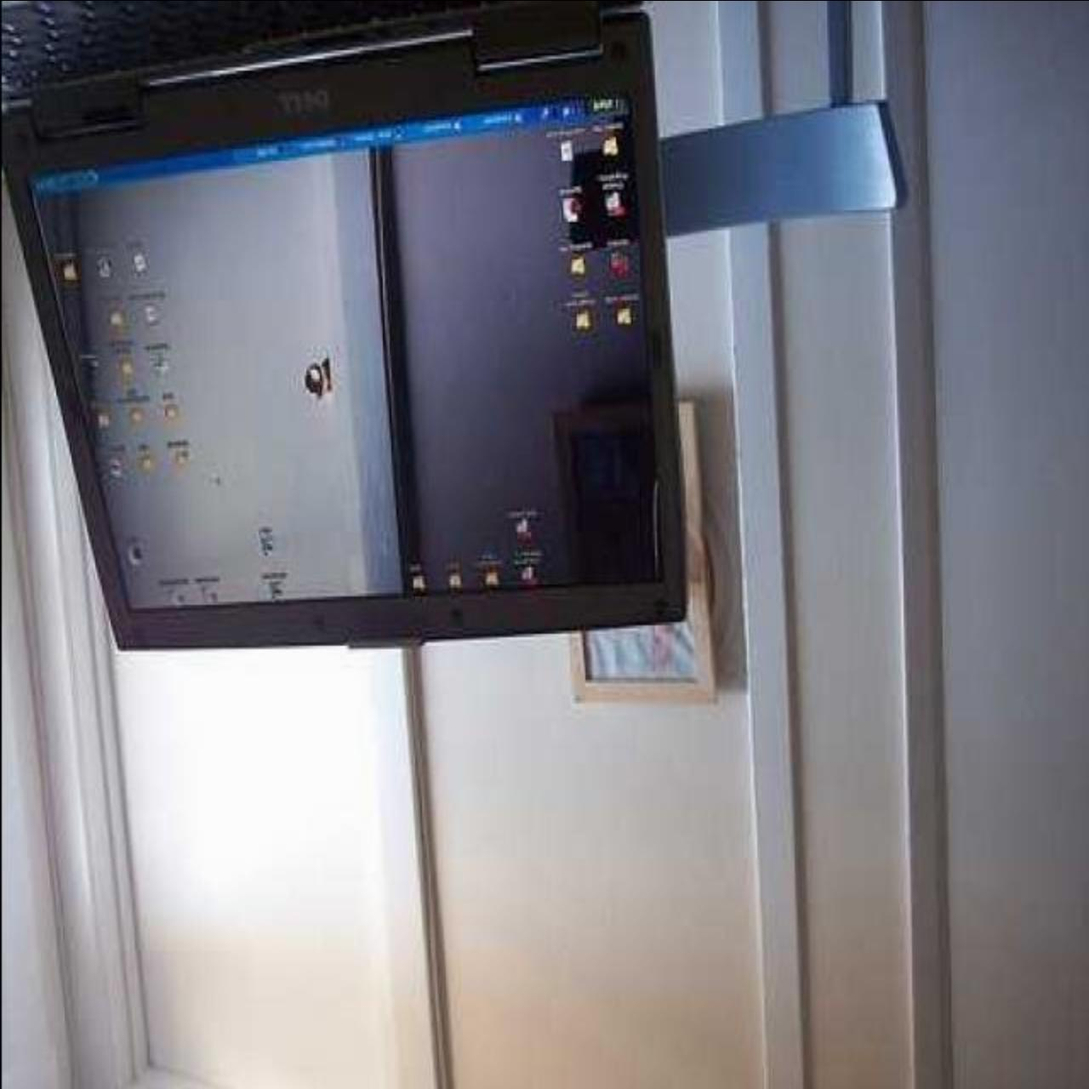laptop: (0, 0, 674, 619)
